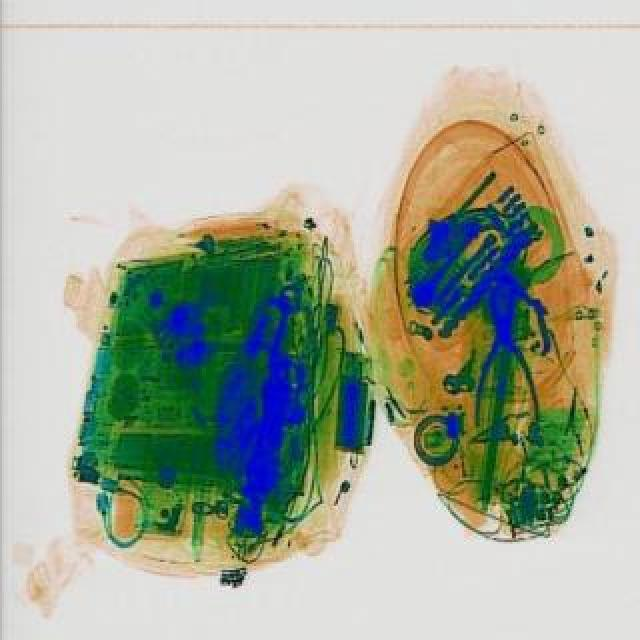wrench: (470, 280, 538, 426)
